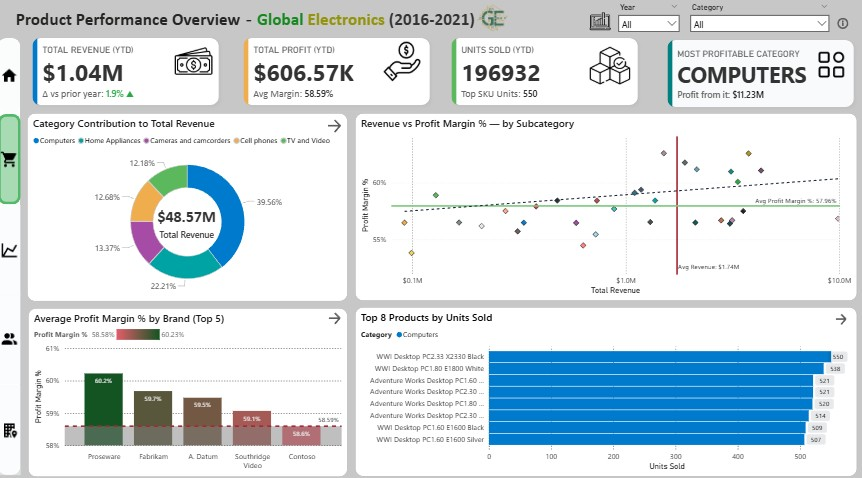

This screenshot's page, from the dashboard's own definition file:
{"tool":"powerbi","page":{"name":"Products","canvas":[1600,900],"ordinal":1},"visuals":[{"type":"textbox","box":[28.3,8.3,870,60],"z":0},{"type":"cardVisual","fields":{"Data":["sales_final.Total Revenue YTD"]},"box":[52.5,57.5,370,150],"z":0,"group":"g1"},{"type":"cardVisual","fields":{"Data":["sales_final.Units Sold YTD"]},"box":[827.5,57.5,370,150],"z":0,"group":"g3"},{"type":"cardVisual","fields":{"Data":["sales_final.Total Profit YTD"]},"box":[442,58,370,150],"z":0,"group":"g2"},{"type":"cardVisual","fields":{"Data":["sales_final.Top Category Name"]},"box":[1228,62,370,150],"z":0,"group":"g4"},{"type":"shape","box":[0,70.7,41.4,809.2],"z":0,"group":"g8"},{"type":"donutChart","title":"Category Contribution to Total Revenue","fields":{"Y":["sales_final.Total Revenue"],"Category":["products.Category"]},"box":[53.2,209.1,594,349.4],"z":0,"group":"g5"},{"type":"clusteredBarChart","title":"Top 8 Products by Units Sold","fields":{"Category":["products.Product_Name"],"Y":["sales_final.Units Sold"],"Series":["products.Category"]},"box":[661.2,568.8,930,313.6],"z":0,"group":"g7"},{"type":"columnChart","title":"Average Profit Margin % by Brand (Top 5)","fields":{"Category":["products.Brand"],"Y":["sales_final.Profit Margin %"]},"box":[55,570.3,591.8,313.4],"z":0,"group":"g6"},{"type":"group","id":"g1","title":"Card_1","box":[52.5,57.5,370,150],"z":1000},{"type":"image","box":[709.5,73,77.5,82.5],"z":1000,"group":"g2"},{"type":"image","box":[323.7,73.7,80,77.5],"z":1000,"group":"g1"},{"type":"image","box":[1091.3,81.3,85,80],"z":1000,"group":"g3"},{"type":"image","box":[1510,92.5,67.5,57.5],"z":1000,"group":"g4"},{"type":"actionButton","box":[0,212,42,167.5],"z":1000,"group":"g8"},{"type":"card","fields":{"Values":["sales_final.Total Revenue"]},"box":[265.9,371.9,165,79],"z":1000,"group":"g5"},{"type":"actionButton","box":[607.1,570,31,38.1],"z":1000,"group":"g6"},{"type":"actionButton","box":[1546.9,576.5,29,30],"z":1000,"group":"g7"},{"type":"group","id":"g2","title":"Card_2","box":[442,58,370,150],"z":2000},{"type":"actionButton","box":[604.9,215.9,37.5,33.8],"z":2000,"group":"g5"},{"type":"actionButton","box":[0,379.5,42,167.5],"z":2000,"group":"g8"},{"type":"group","id":"g3","title":"Card_3","box":[827.5,57.5,370,150],"z":3000},{"type":"actionButton","box":[0,712.5,42,167.5],"z":3000,"group":"g8"},{"type":"group","id":"g4","title":"Card_4","box":[1228,62,370,150],"z":3500},{"type":"scatterChart","title":"Revenue vs Profit Margin % — by Subcategory","fields":{"X":["sales_final.Total Revenue"],"Y":["sales_final.Profit Margin %"],"Category":["products.Subcategory"]},"box":[661.2,210,930,347.5],"z":4000},{"type":"actionButton","box":[0,545,42,167.5],"z":4000,"group":"g8"},{"type":"actionButton","box":[0,71.3,41.4,140.2],"z":4500,"group":"g8"},{"type":"actionButton","title":"Info_button","box":[1549.1,28.2,29.1,30.9],"z":5000},{"type":"image","title":"Logo","box":[872.7,4.5,86.4,60],"z":6000},{"type":"group","id":"g5","title":"Pie_top","box":[53.2,209.1,593.5,348.1],"z":7000},{"type":"group","id":"g6","title":"Column_top5","box":[55,570,591.7,313.3],"z":9000},{"type":"group","id":"g7","title":"Bar_top8","box":[661.2,568.8,930,312.5],"z":11000},{"type":"image","title":"More_visuals","box":[1090,14.3,48.6,48.6],"z":13000},{"type":"slicer","fields":{"Values":["Calendar.Year"]},"box":[1138.6,0,132.9,68.6],"z":14000},{"type":"slicer","fields":{"Values":["products.Category"]},"box":[1271.4,0,277.1,68.6],"z":15000},{"type":"group","id":"g8","title":"Page_nav","box":[0,70.7,42,809.3],"z":16000}]}

Visuals, with their boxes in screenshot pixels (x1, y1, x2, y2), scaled from the page's 1600x900 canvas onto the 862x478 screenshot:
textbox: 15,4,484,36
cardVisual - sales_final.Total Revenue YTD: 28,31,228,110
cardVisual - sales_final.Units Sold YTD: 446,31,645,110
cardVisual - sales_final.Total Profit YTD: 238,31,437,110
cardVisual - sales_final.Top Category Name: 662,33,861,113
shape: 0,38,22,467
"Category Contribution to Total Revenue" donutChart: 29,111,349,297
"Top 8 Products by Units Sold" clusteredBarChart: 356,302,857,469
"Average Profit Margin % by Brand (Top 5)" columnChart: 30,303,348,469
"Card_1" group: 28,31,228,110
image: 382,39,424,83
image: 174,39,217,80
image: 588,43,634,86
image: 814,49,850,80
actionButton: 0,113,23,202
card - sales_final.Total Revenue: 143,198,232,239
actionButton: 327,303,344,323
actionButton: 833,306,849,322
"Card_2" group: 238,31,437,110
actionButton: 326,115,346,133
actionButton: 0,202,23,291
"Card_3" group: 446,31,645,110
actionButton: 0,378,23,467
"Card_4" group: 662,33,861,113
"Revenue vs Profit Margin % — by Subcategory" scatterChart: 356,112,857,296
actionButton: 0,289,23,378
actionButton: 0,38,22,112
"Info_button" actionButton: 835,15,850,31
"Logo" image: 470,2,517,34
"Pie_top" group: 29,111,348,296
"Column_top5" group: 30,303,348,469
"Bar_top8" group: 356,302,857,468
"More_visuals" image: 587,8,613,33
slicer - Calendar.Year: 613,0,685,36
slicer - products.Category: 685,0,834,36
"Page_nav" group: 0,38,23,467
